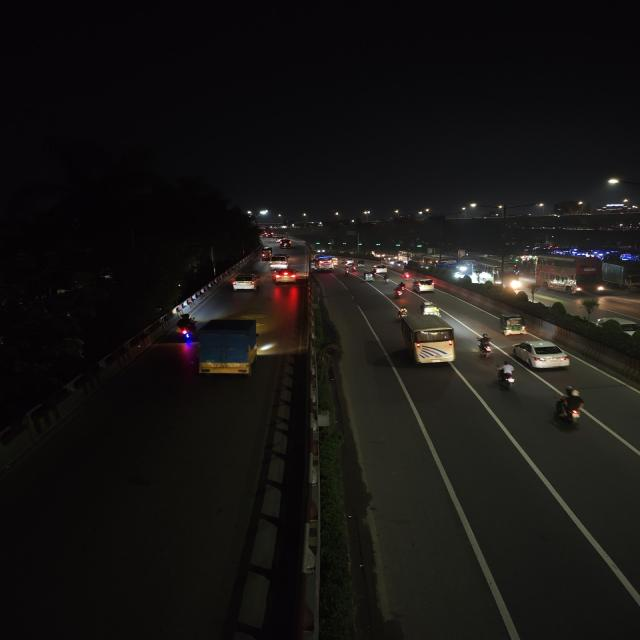bus: (394, 314, 459, 371), (535, 255, 605, 296), (474, 256, 519, 286), (434, 258, 467, 276), (316, 254, 336, 269)
car: (511, 339, 573, 374), (230, 272, 261, 292), (271, 267, 298, 285), (412, 277, 437, 293), (269, 254, 290, 270), (372, 264, 388, 274), (278, 240, 291, 249)
cng: (498, 313, 528, 337), (419, 300, 445, 318), (362, 271, 377, 283), (259, 248, 273, 260)
motorcycle: (550, 385, 596, 429), (490, 362, 520, 394), (172, 314, 199, 342), (472, 333, 496, 359), (391, 281, 408, 299), (394, 304, 411, 321), (380, 271, 392, 283), (345, 267, 354, 277)
truck: (188, 316, 266, 382), (603, 261, 640, 293)
